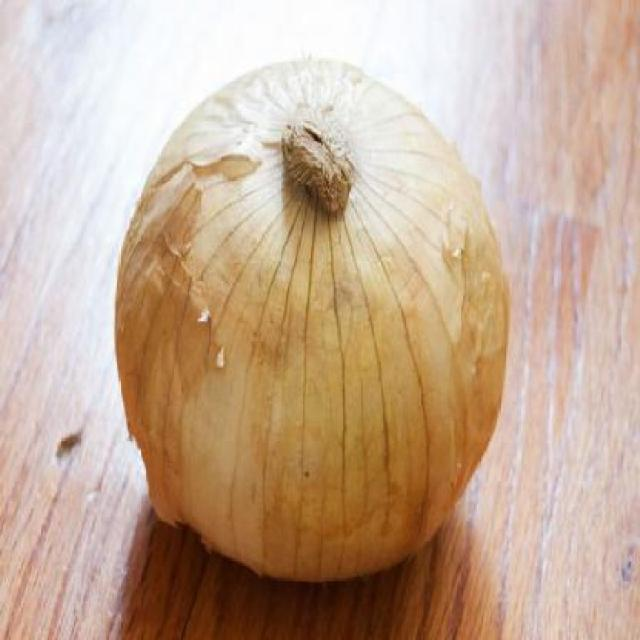Onion: (115, 58, 509, 582)
